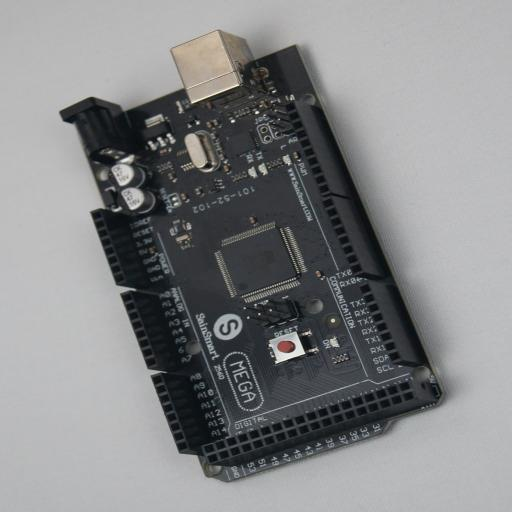Arduino Mega 2560 -Black-: (60, 30, 450, 482)
